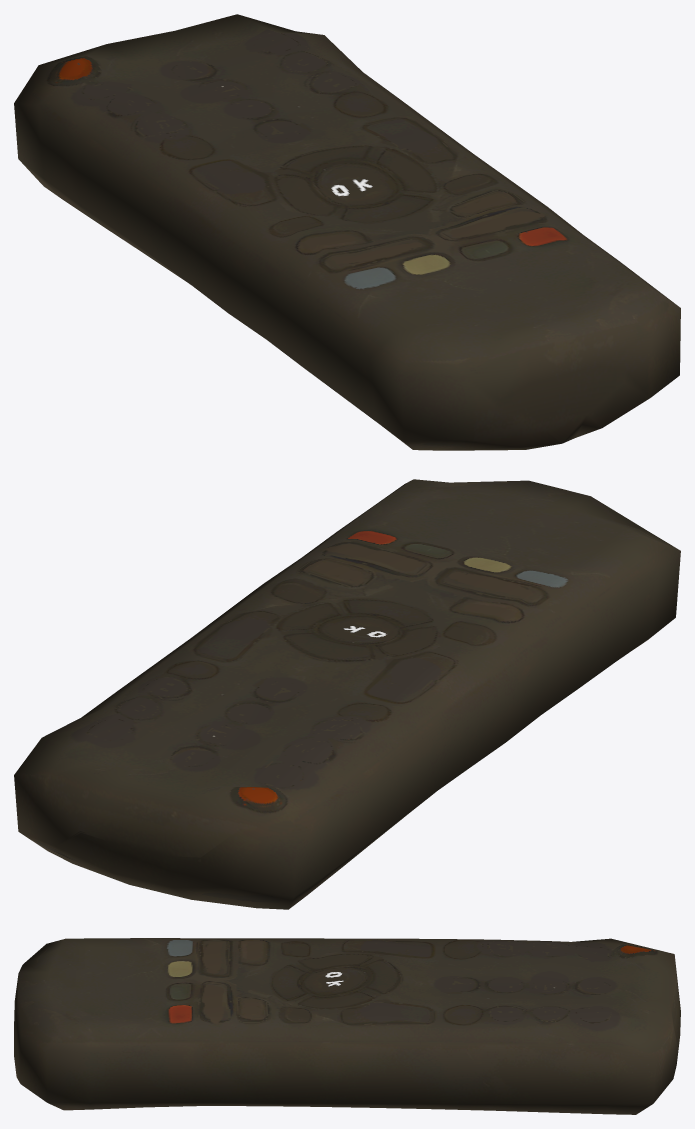
Rendered from SM_remote.fbx.
The picture shows the model from 3 angles, top to bottom: view 1: azimuth 30°, elevation 25°; view 2: azimuth 150°, elevation 25°; view 3: azimuth 270°, elevation 25°; orthographic projection. The views are drawn at different scales.
Visible parts, largest first — view 1: SM_Remote; view 2: SM_Remote; view 3: SM_Remote.
Boxes of the visible parts, x1,y1,x2,y2 form: SM_Remote: (14, 14, 680, 450); SM_Remote: (14, 479, 680, 909); SM_Remote: (14, 938, 680, 1114).
Size of the model in its own units: 6.38 by 2.64 by 16.39.
